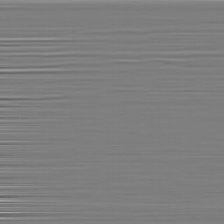cavities: (1, 77, 121, 133)
